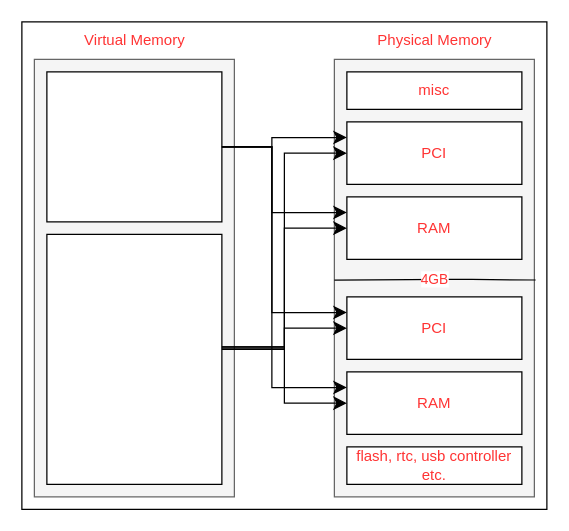
The diagram is 569 pixels wide and 531 high, and some of its shapes have lost their labels. Each missing label, with the centre of its shape:
"Kernel Space" belongs at point (134, 358).
"Userspace" belongs at point (134, 146).
